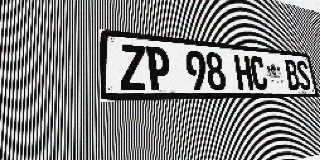8: (205, 52, 227, 90)
9: (185, 50, 208, 90)
B: (284, 59, 301, 90)
C: (249, 56, 269, 90)
H: (234, 54, 254, 90)
P: (145, 46, 171, 91)
S: (295, 60, 312, 90)
Z: (119, 44, 147, 91)
